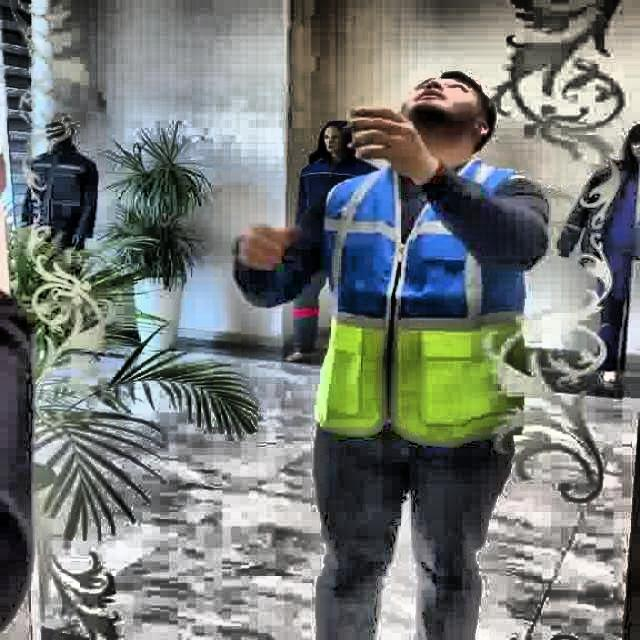safety_jacket: (310, 161, 536, 455)
